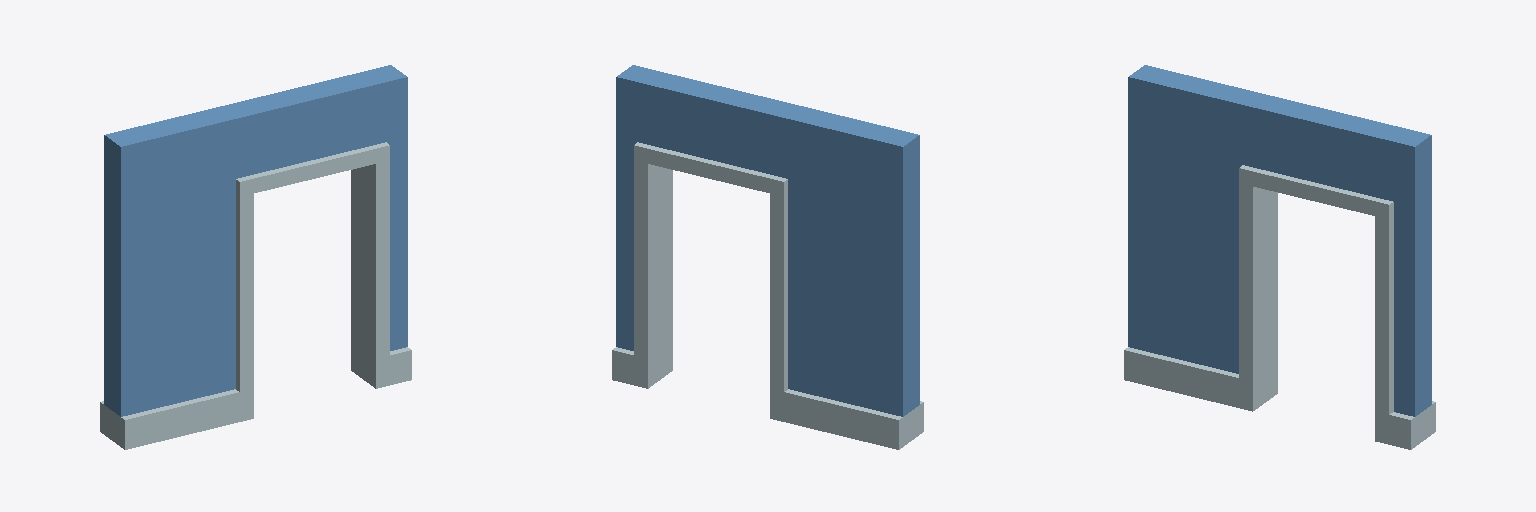
3 views of the same model, side by side, from view 1: azimuth 30°, elevation 25°; view 2: azimuth 150°, elevation 25°; view 3: azimuth 330°, elevation 25° (orthographic).
Parts seen in each view (by area): view 1: object 1; view 2: object 1; view 3: object 1.
Part boxes in pixels (x1,y1,x2,y2): object 1: (100, 65, 411, 449); object 1: (612, 65, 923, 449); object 1: (1124, 65, 1435, 449).
Bounding box in the file's own units: 4 × 4 × 0.6.
Materials: 1 (1 with a texture image).